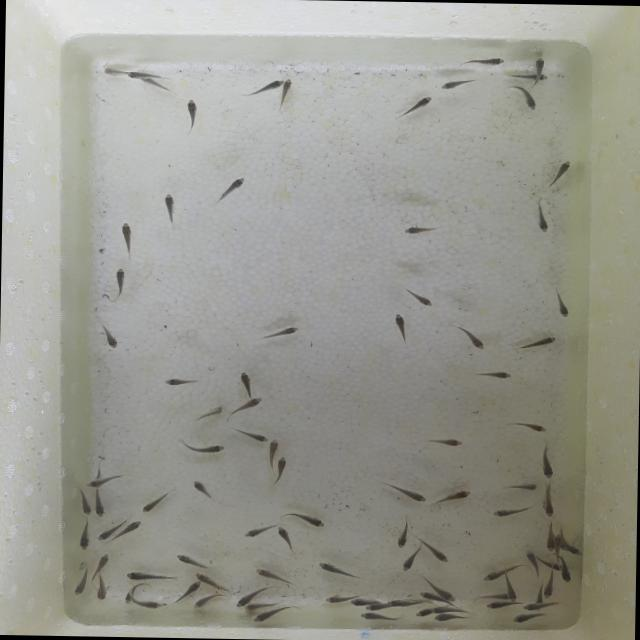fingerling: (542, 156, 578, 188), (159, 188, 182, 232), (530, 196, 554, 238), (514, 334, 564, 354), (279, 510, 329, 530), (257, 324, 300, 346), (452, 325, 488, 351), (226, 395, 263, 420), (398, 94, 431, 122), (505, 87, 541, 112), (218, 175, 248, 205), (122, 568, 178, 584), (534, 446, 560, 480), (242, 78, 284, 99), (384, 481, 428, 501), (386, 311, 413, 341), (81, 470, 126, 488), (400, 286, 438, 307), (233, 581, 262, 608), (503, 418, 553, 433), (422, 542, 456, 564), (138, 490, 170, 513), (479, 560, 512, 582), (312, 560, 352, 578), (434, 489, 468, 510), (549, 288, 572, 319), (250, 568, 294, 584), (231, 367, 258, 393), (460, 56, 510, 70), (69, 568, 94, 596), (71, 522, 94, 552), (188, 478, 219, 500), (181, 443, 232, 456), (529, 54, 548, 88), (422, 434, 462, 450), (193, 404, 228, 422), (488, 504, 533, 518), (193, 590, 228, 608), (98, 324, 121, 351), (276, 78, 296, 109), (431, 579, 462, 599), (434, 78, 478, 92), (173, 550, 207, 568), (236, 522, 274, 538), (121, 518, 144, 544), (158, 374, 200, 388), (172, 581, 200, 602), (119, 220, 136, 254), (250, 610, 291, 624), (111, 265, 128, 298), (520, 550, 543, 574), (398, 223, 440, 236), (94, 520, 118, 542), (262, 438, 282, 464), (478, 368, 514, 382), (512, 612, 548, 626), (358, 610, 394, 624), (183, 99, 198, 132), (275, 523, 294, 549), (193, 572, 228, 586), (274, 456, 290, 486), (238, 428, 268, 444), (90, 550, 109, 575), (76, 488, 92, 517), (320, 592, 352, 606), (125, 70, 167, 80), (396, 520, 409, 552), (432, 612, 473, 622), (542, 489, 556, 518), (399, 552, 419, 572), (502, 482, 538, 493), (502, 578, 518, 602), (483, 600, 521, 610), (92, 490, 106, 516), (508, 72, 552, 80), (388, 598, 432, 606), (544, 518, 554, 553), (562, 537, 582, 554), (561, 560, 573, 588), (519, 601, 561, 609), (96, 577, 107, 606), (432, 606, 471, 614), (242, 602, 281, 610), (346, 598, 377, 608), (544, 572, 555, 600), (478, 591, 508, 601), (98, 68, 127, 78), (363, 602, 392, 611), (539, 556, 559, 568), (414, 592, 442, 600), (411, 608, 432, 618), (552, 532, 560, 556)
